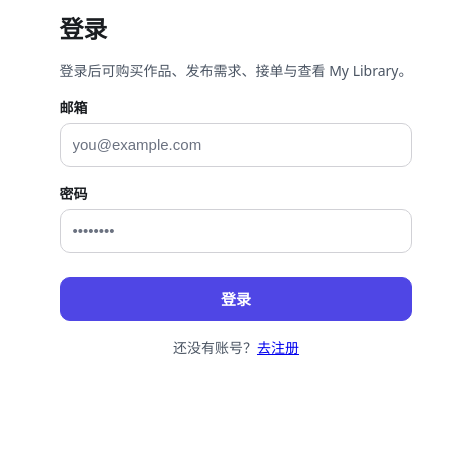
Test: LoginPage（Epic #1） › shows error banner with server message when login fails（错误态）
Type "a@b.c" into the field labelled "邮箱" at (236, 145), box [60,123,412,167]
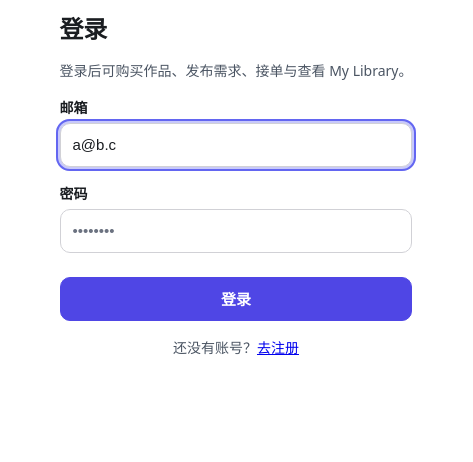
Type "wrong-password" into the password field labelled "密码" at (236, 231), box [60,209,412,253]
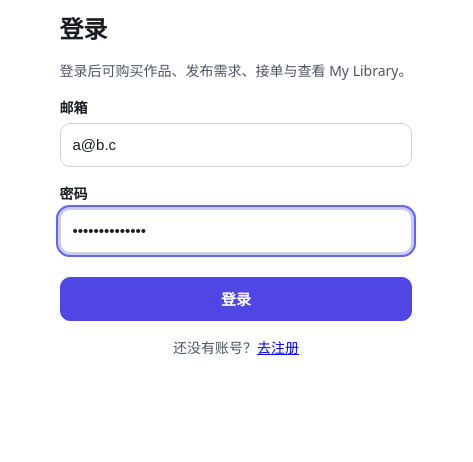
Click the button "登录" at (236, 299), box [60,277,412,321]
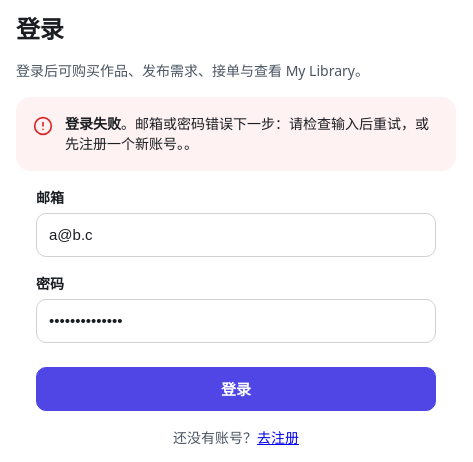
Check: the text "登录失败" is shown, box [65,114,121,133]
Check: the text "邮箱或密码错误" is shown, box [135,114,233,133]
